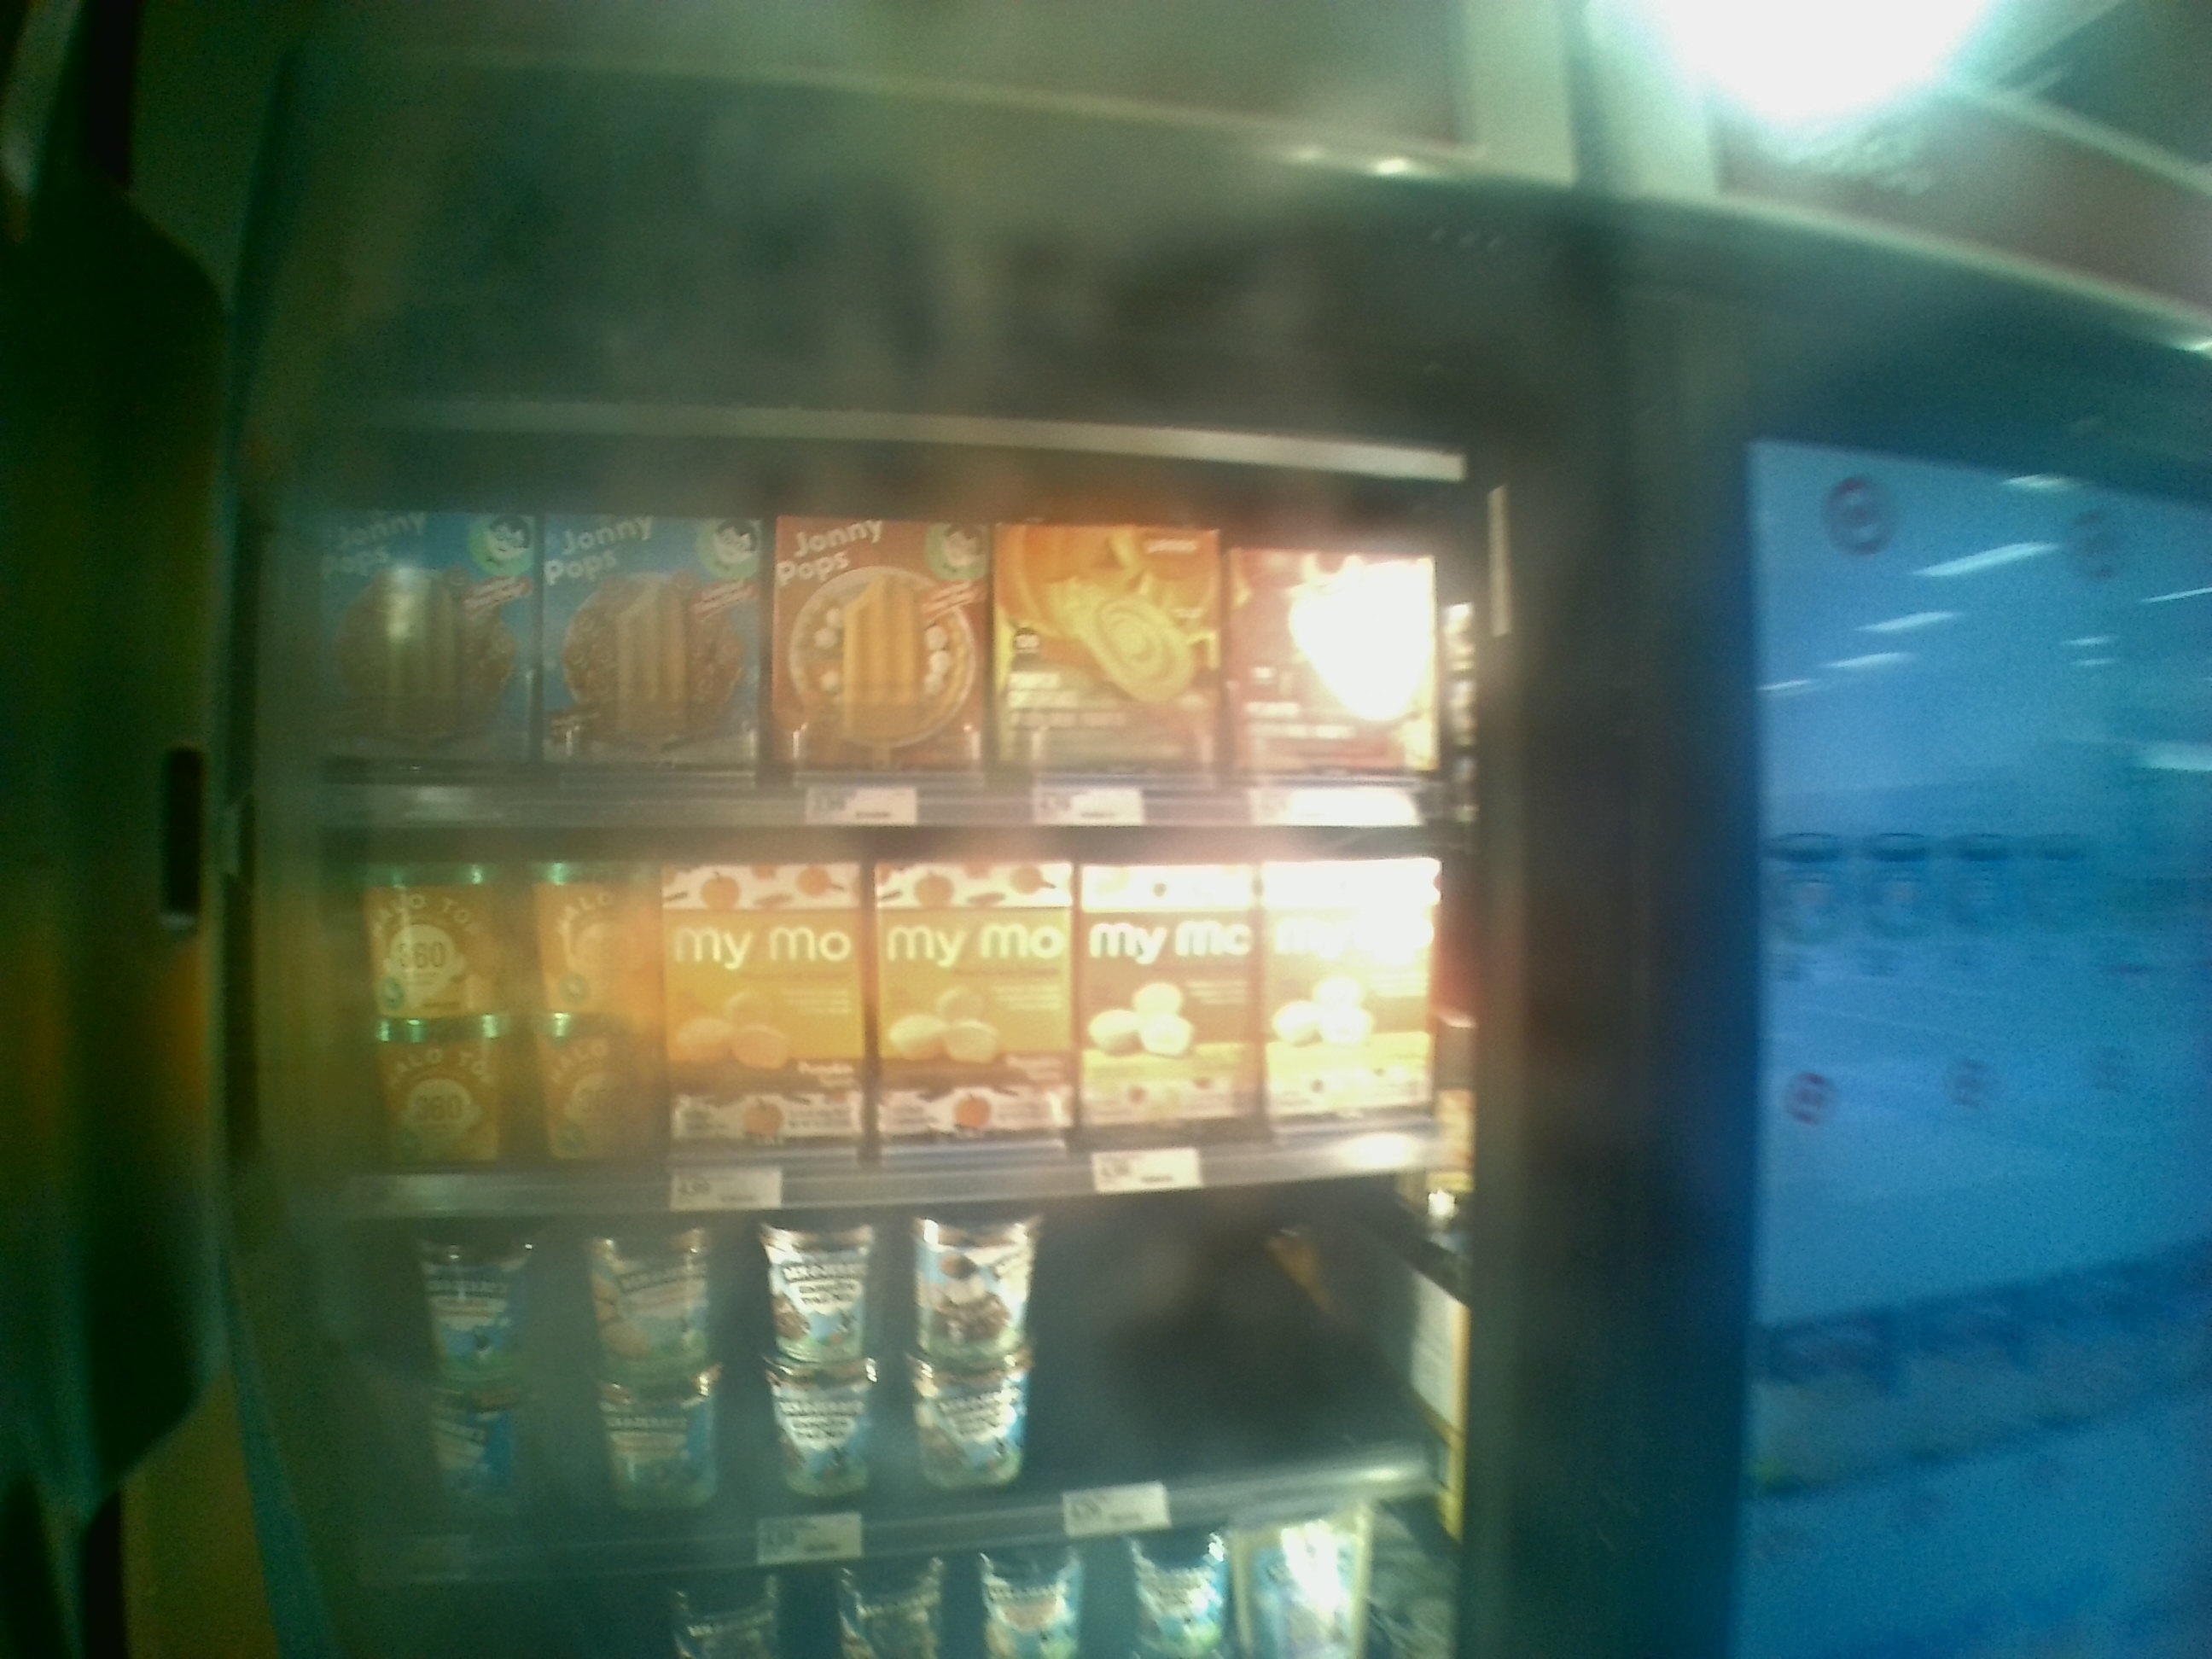shelf: (298, 423, 1480, 845), (286, 829, 1480, 1187)
